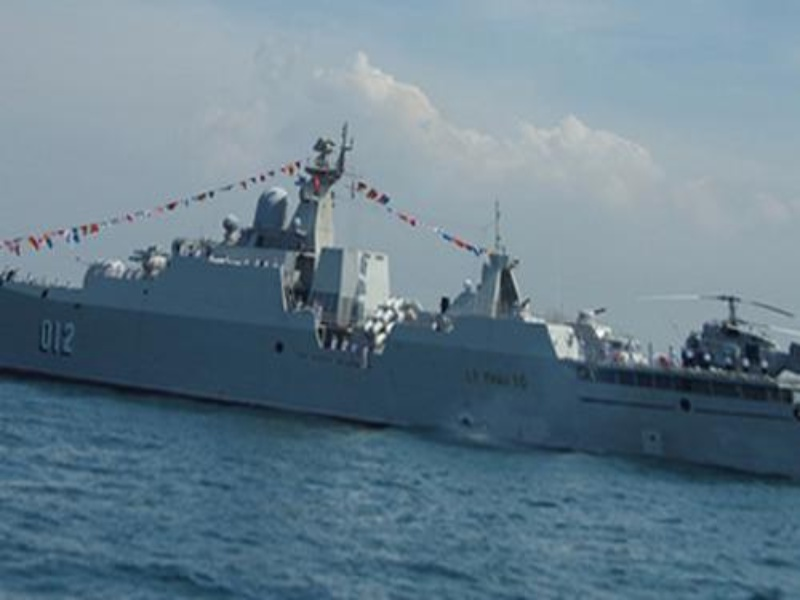cruise: (22, 130, 796, 477)
